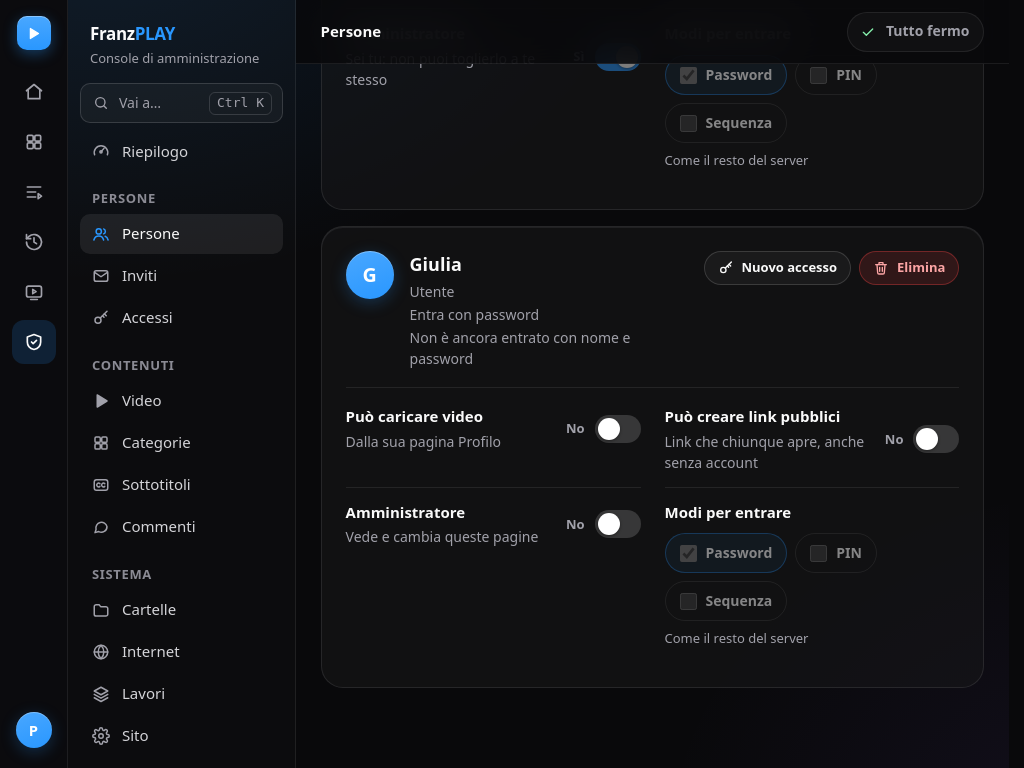
Test: people page › changes what a person may do
(page scrolled)
Click the switch labelled "Può caricare video": (618, 429) [594, 415, 640, 443]
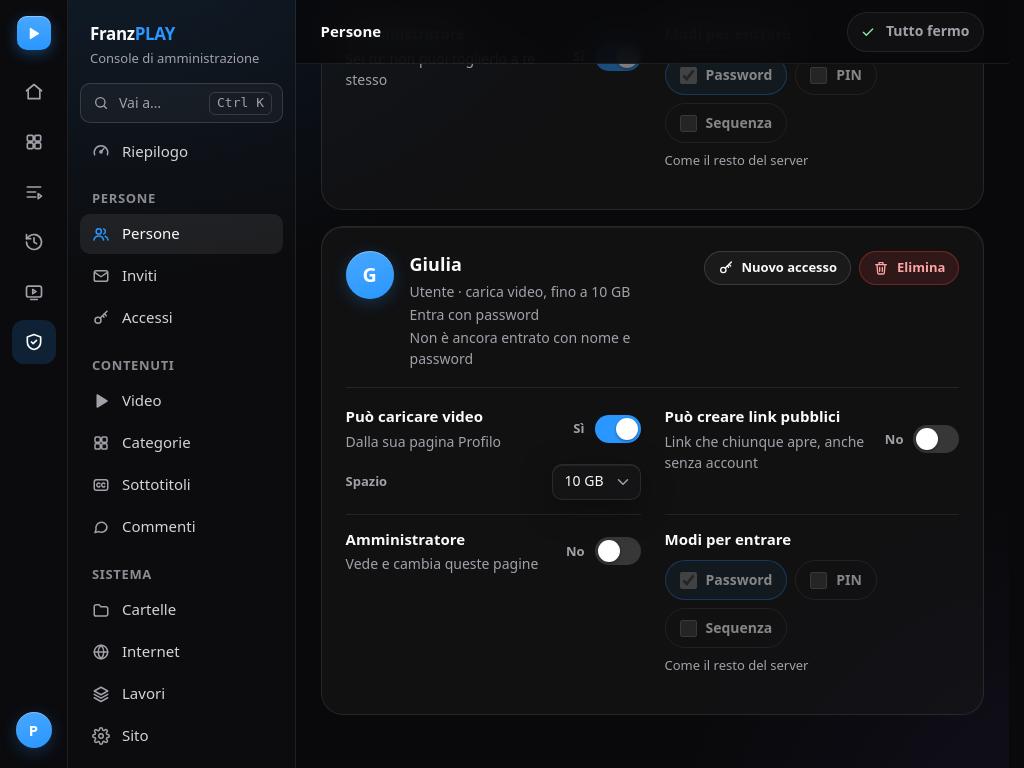
Result: the switch labelled "Può caricare video" is checked at [594, 415, 640, 443]
Result: the text "Utente · carica video, fino a 10 GB" is shown at [410, 282, 630, 301]
